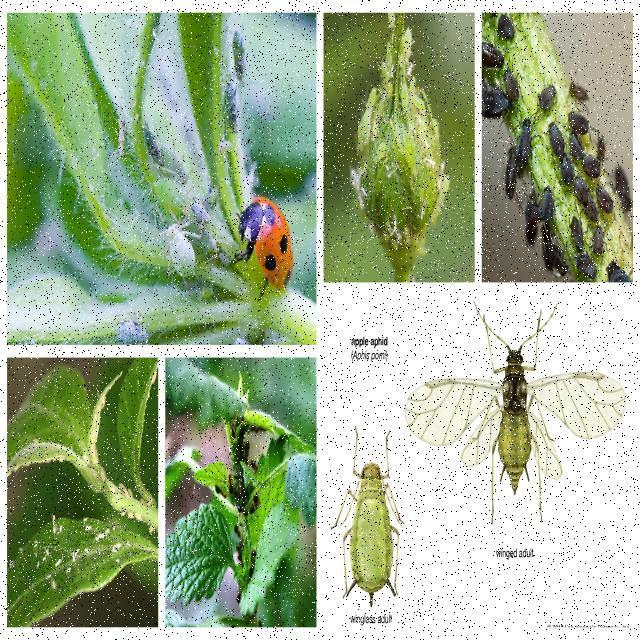Aphids: (64, 83, 153, 410)
